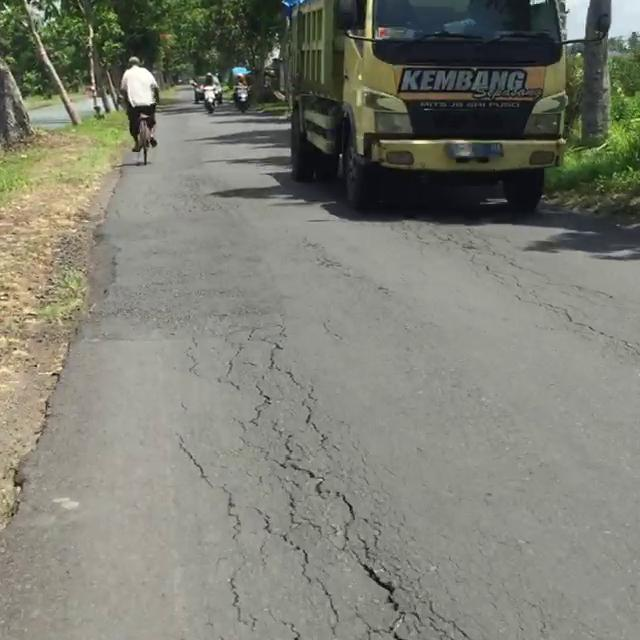retak_kulit_buaya: (171, 295, 418, 640)
